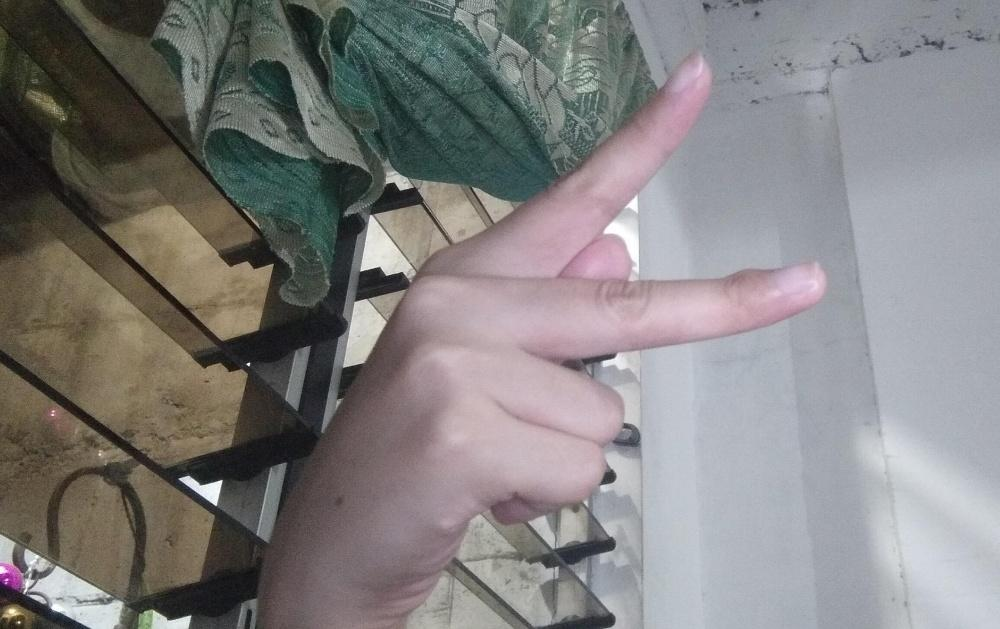k: (287, 47, 829, 615)
